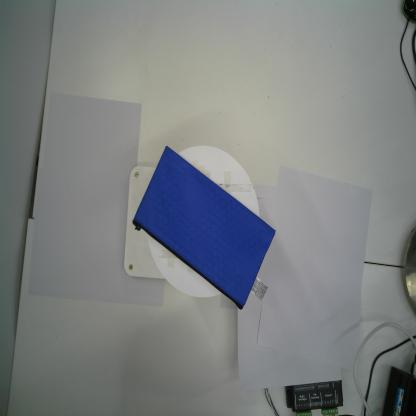Stationery: (132, 146, 276, 310)
